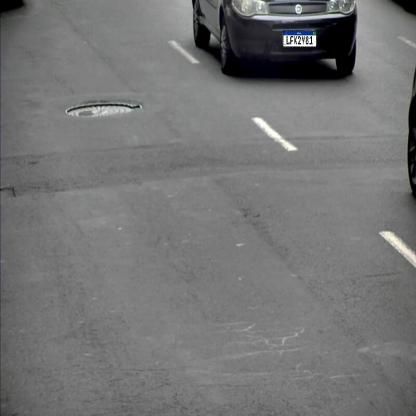PlacaM: (283, 31, 317, 47)
